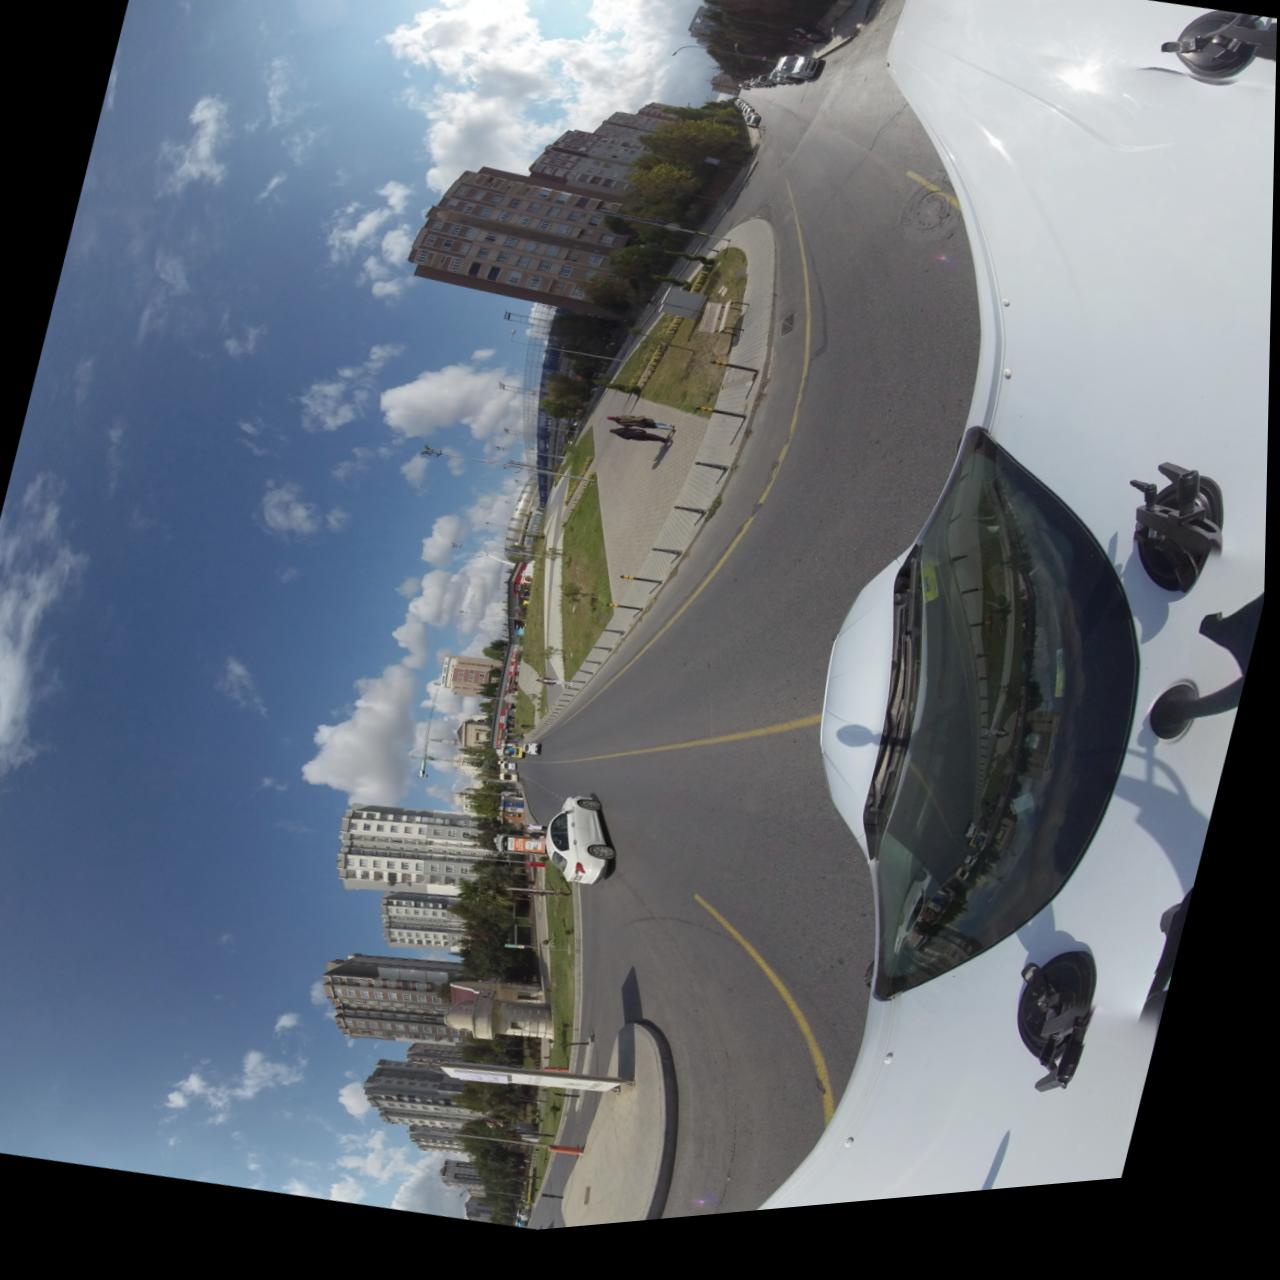SignStore: (444, 665, 452, 694), (503, 724, 509, 731), (502, 737, 505, 747), (501, 748, 504, 754)
